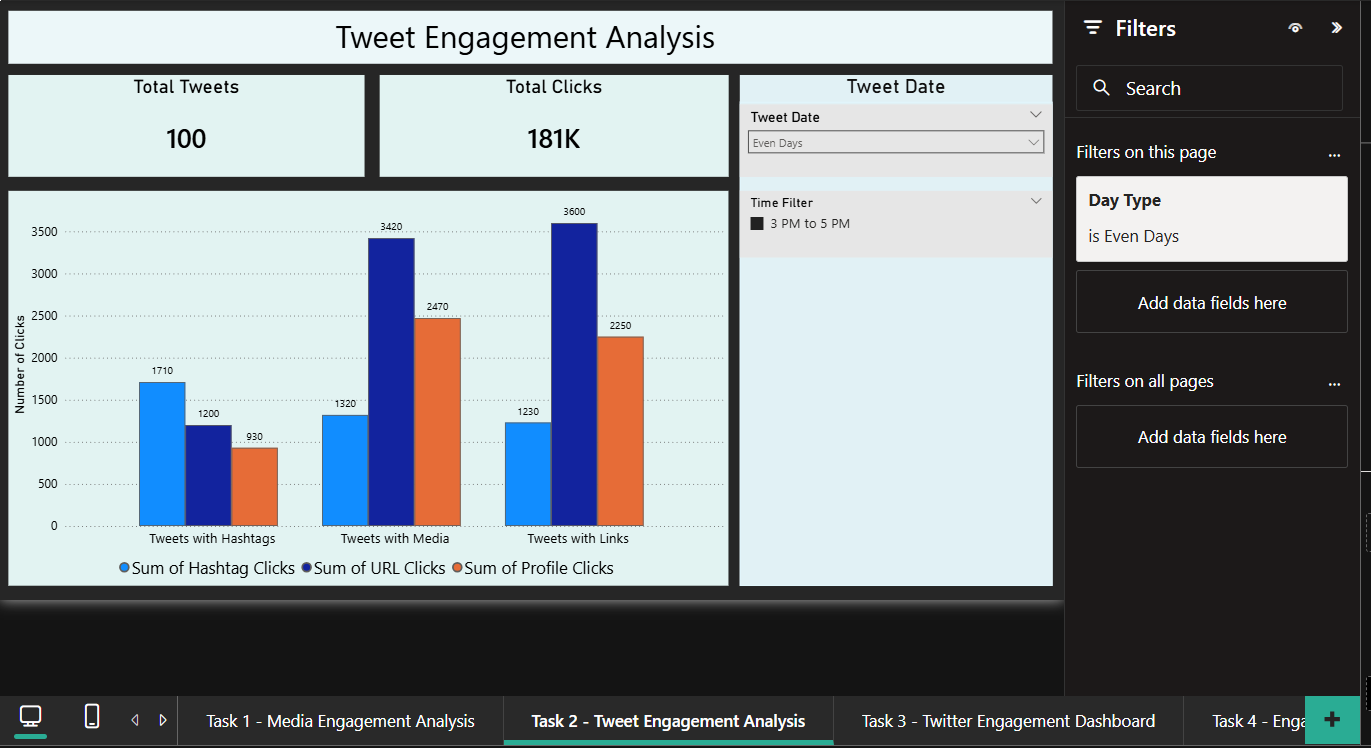

The page's visual inventory and layout, read from the dashboard file:
{"tool":"powerbi","page":{"name":"Task 2 - Tweet Engagement Analysis","canvas":[1280,720],"ordinal":1},"visuals":[{"type":"textbox","box":[10.1,11.8,1255.9,63.8],"z":0},{"type":"cardVisual","title":"Total Tweets","fields":{"Data":["Sum(twitter_engagement_dataset_sample.Total Tweets)"]},"box":[10.1,89,428.1,122.6],"z":1000},{"type":"cardVisual","title":"Total Clicks","fields":{"Data":["Sum(twitter_engagement_dataset_sample.Total Clicks)"]},"box":[456.7,89,419.7,122.6],"z":2000},{"type":"clusteredColumnChart","fields":{"Category":["twitter_engagement_dataset_sample.Tweet Category"],"Y":["Sum(twitter_engagement_dataset_sample.Hashtag Clicks)","Sum(twitter_engagement_dataset_sample.URL Clicks)","Sum(twitter_engagement_dataset_sample.Profile Clicks)"]},"box":[10.1,228.3,866.3,475.1],"z":3000},{"type":"shape","title":"Tweet Date","box":[889.9,89,376.1,614.5],"z":4000},{"type":"slicer","fields":{"Values":["twitter_engagement_dataset_sample.Day Type"]},"box":[889.9,124.2,376.1,87.3],"z":5000},{"type":"slicer","fields":{"Values":["twitter_engagement_dataset_sample.Time Slot"]},"box":[889.9,228.3,376.1,80.6],"z":6000}]}

Visuals, with their boxes on the page's 1280x720 design canvas (x1, y1, x2, y2). These are canvas units, not pixel positions in the 1371x748 screenshot, which may show the page scaled, cropped or inside an application window:
textbox: select_region(10, 12, 1266, 76)
"Total Tweets" cardVisual: select_region(10, 89, 438, 212)
"Total Clicks" cardVisual: select_region(457, 89, 876, 212)
clusteredColumnChart - twitter_engagement_dataset_sample.Tweet Category x Sum(twitter_engagement_dataset_sample.Hashtag Clicks): select_region(10, 228, 876, 703)
"Tweet Date" shape: select_region(890, 89, 1266, 704)
slicer - twitter_engagement_dataset_sample.Day Type: select_region(890, 124, 1266, 212)
slicer - twitter_engagement_dataset_sample.Time Slot: select_region(890, 228, 1266, 309)
